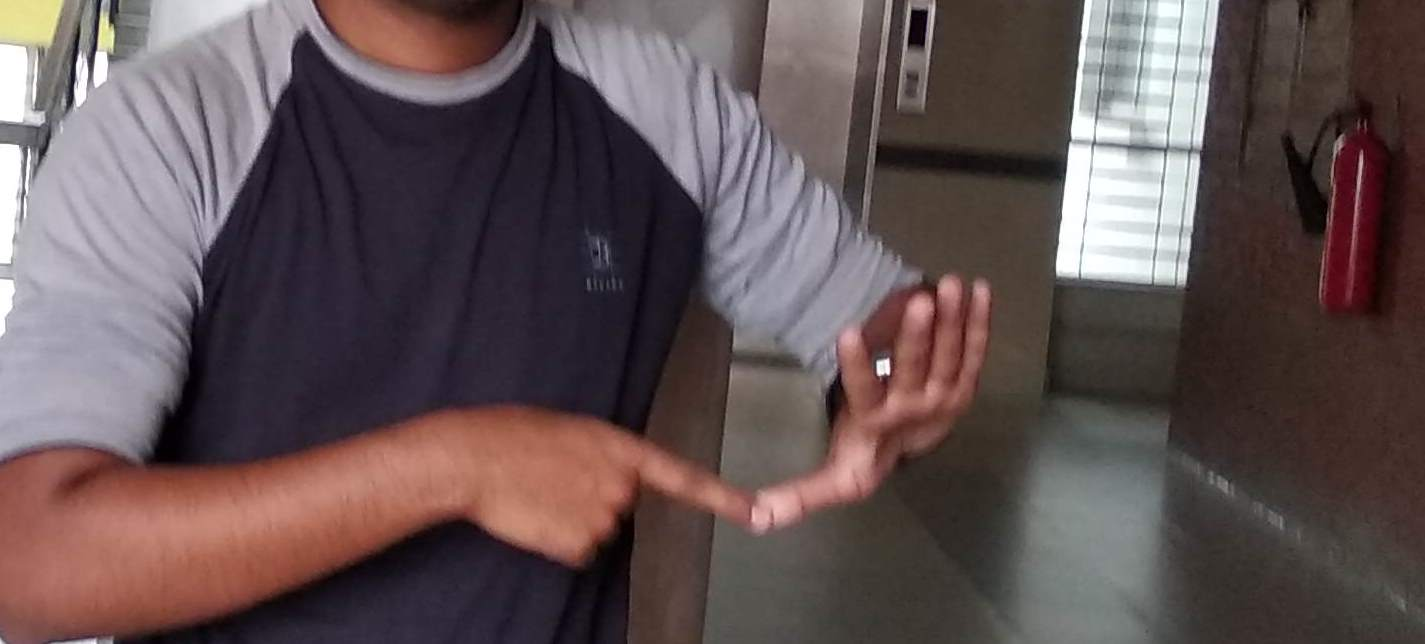a: (463, 293, 994, 558)
